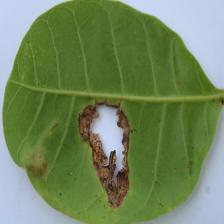leaf miner: (1, 0, 224, 224), (76, 98, 132, 210)
